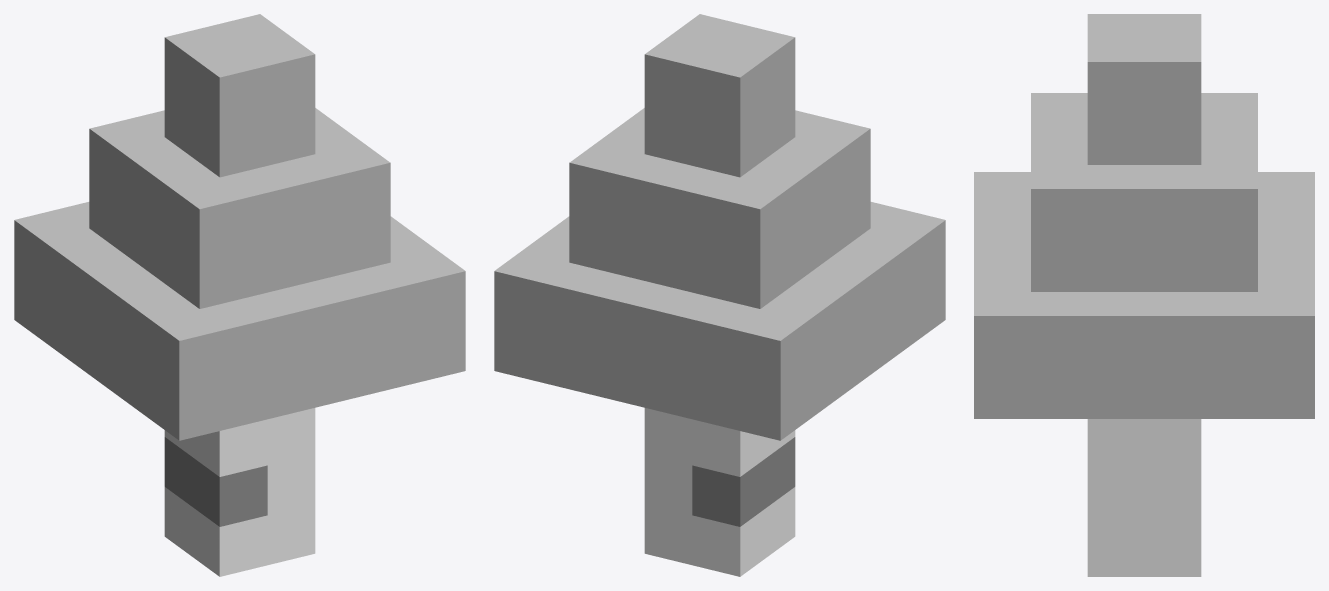
The model's file is mushroom0.obj.
3 views of the same model, side by side, from view 1: azimuth 30°, elevation 25°; view 2: azimuth 150°, elevation 25°; view 3: azimuth 270°, elevation 25° (orthographic). The views are drawn at different scales.
Size of the model in its own units: 0.6 by 1 by 0.6.
1 material, 1 textured.
